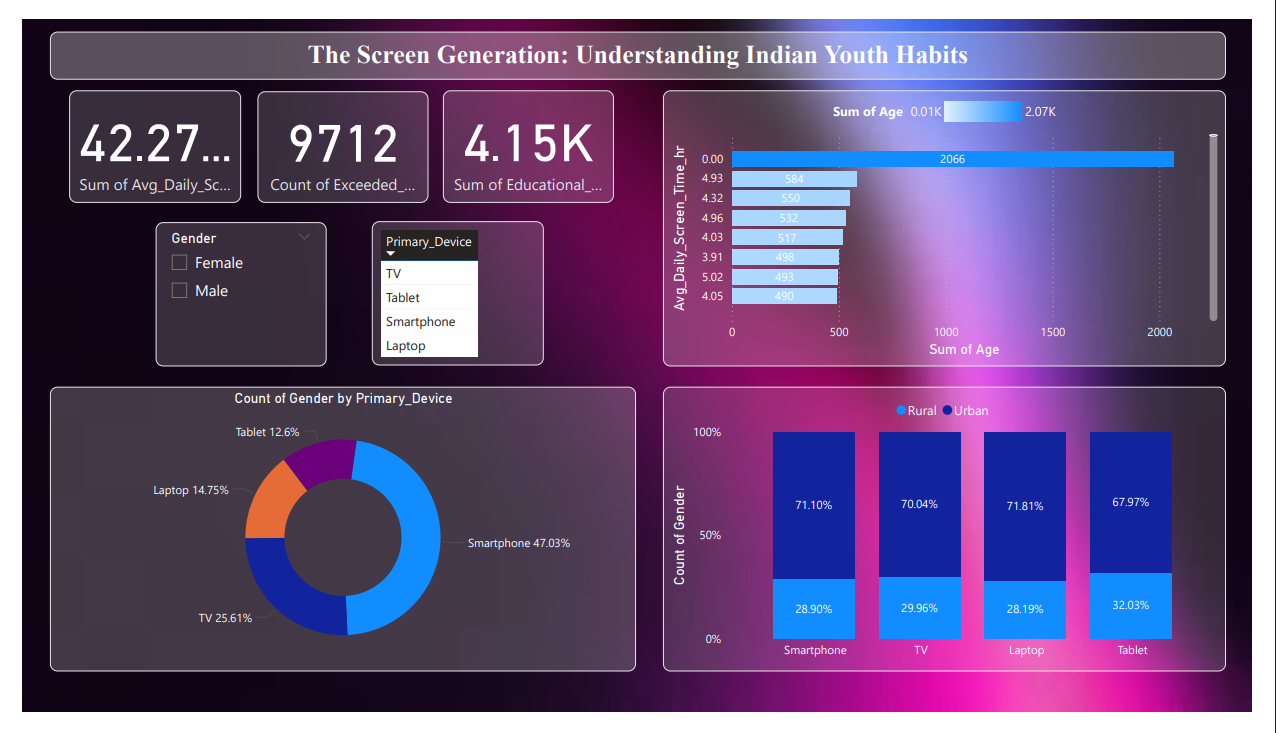

Layout of this report page (visuals, bound fields, positions):
{"tool":"powerbi","page":{"name":"Page 1","canvas":[1280,720],"ordinal":0},"visuals":[{"type":"textbox","box":[29,13.3,1224.5,49.5],"z":0},{"type":"card","fields":{"Values":["Sum(Indian_Kids_Screen_Time.Avg_Daily_Screen_Time_hr)"]},"box":[49.5,73.6,178.6,117],"z":1000},{"type":"donutChart","fields":{"Category":["Indian_Kids_Screen_Time.Primary_Device"],"Y":["CountNonNull(Indian_Kids_Screen_Time.Gender)"]},"box":[29,382.4,610.5,295.6],"z":2000},{"type":"clusteredBarChart","fields":{"Y":["Sum(Indian_Kids_Screen_Time.Age)"],"Category":["Indian_Kids_Screen_Time.Avg_Daily_Screen_Time_hr"]},"box":[667.2,73.6,586.3,287.1],"z":3000},{"type":"hundredPercentStackedColumnChart","fields":{"Category":["Indian_Kids_Screen_Time.Primary_Device"],"Y":["CountNonNull(Indian_Kids_Screen_Time.Gender)"],"Series":["Indian_Kids_Screen_Time.Urban_or_Rural"]},"box":[667.2,382.4,586.3,295.6],"z":4000},{"type":"card","fields":{"Values":["Sum(Indian_Kids_Screen_Time.Educational_to_Recreational_Ratio)"]},"box":[437.9,73.6,178.6,117],"z":5000},{"type":"card","fields":{"Values":["CountNonNull(Indian_Kids_Screen_Time.Exceeded_Recommended_Limit)"]},"box":[244.9,74.8,178.6,115.8],"z":6000},{"type":"slicer","fields":{"Values":["Indian_Kids_Screen_Time.Gender"]},"box":[138.7,211.1,178.6,149.6],"z":7000},{"type":"tableEx","fields":{"Values":["Indian_Kids_Screen_Time.Primary_Device"]},"box":[364.3,209.9,178.6,149.6],"z":8000}]}

Visuals, with their boxes in screenshot pixels (x1, y1, x2, y2), scaled from the page's 1280x720 canvas onto the 1276x733 screenshot:
textbox: rect(29, 14, 1250, 64)
card - Sum(Indian_Kids_Screen_Time.Avg_Daily_Screen_Time_hr): rect(49, 75, 227, 194)
donutChart - Indian_Kids_Screen_Time.Primary_Device x CountNonNull(Indian_Kids_Screen_Time.Gender): rect(29, 389, 638, 690)
clusteredBarChart - Sum(Indian_Kids_Screen_Time.Age) x Indian_Kids_Screen_Time.Avg_Daily_Screen_Time_hr: rect(665, 75, 1250, 367)
hundredPercentStackedColumnChart - Indian_Kids_Screen_Time.Primary_Device x CountNonNull(Indian_Kids_Screen_Time.Gender): rect(665, 389, 1250, 690)
card - Sum(Indian_Kids_Screen_Time.Educational_to_Recreational_Ratio): rect(437, 75, 615, 194)
card - CountNonNull(Indian_Kids_Screen_Time.Exceeded_Recommended_Limit): rect(244, 76, 422, 194)
slicer - Indian_Kids_Screen_Time.Gender: rect(138, 215, 316, 367)
tableEx - Indian_Kids_Screen_Time.Primary_Device: rect(363, 214, 541, 366)
